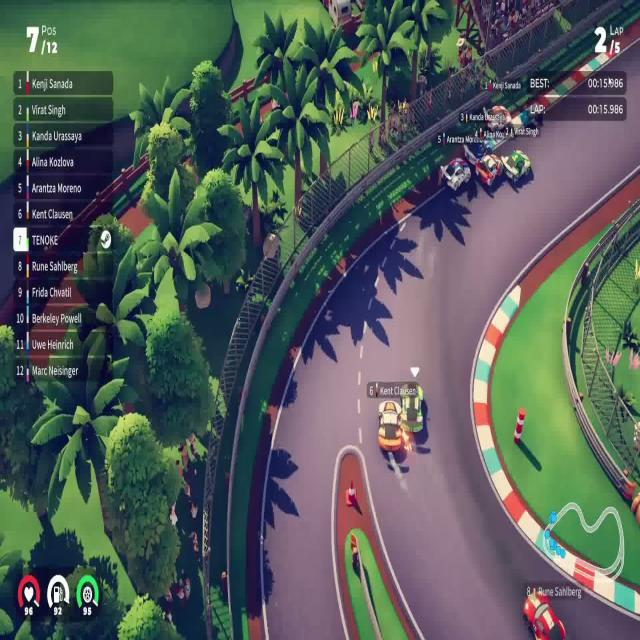car: (378, 397, 403, 454), (399, 381, 424, 434), (439, 156, 471, 192), (501, 147, 531, 184), (474, 152, 502, 188), (485, 104, 514, 132)
